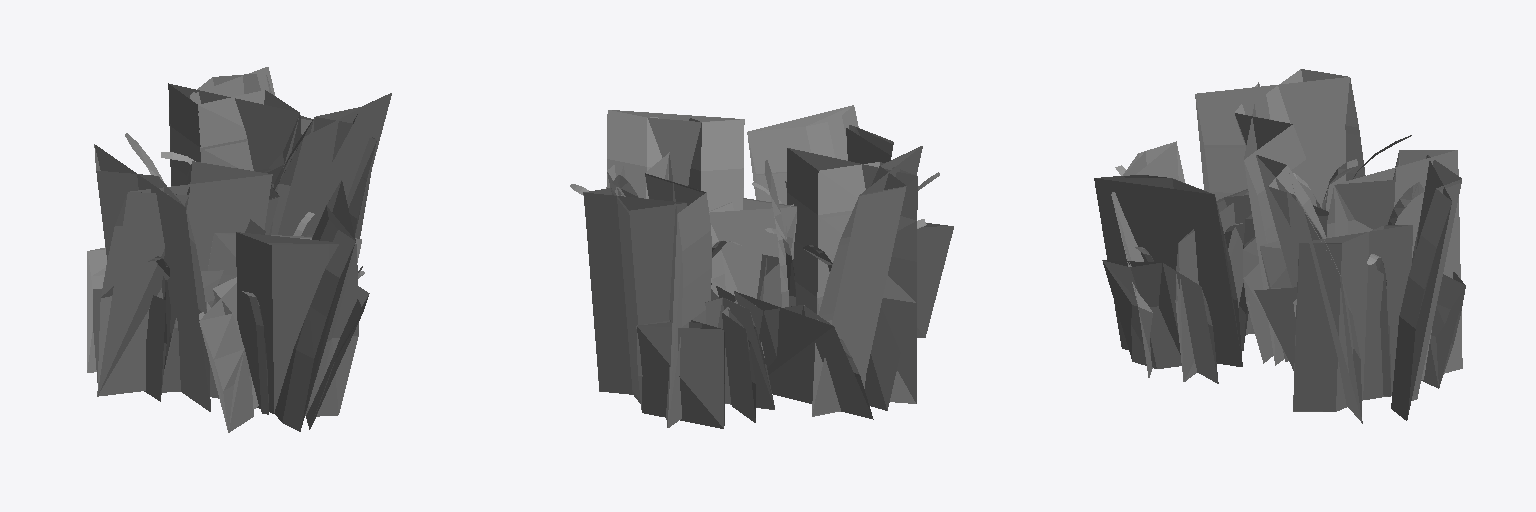
The model's file is Swamp_Grass_Tall_B.obj.
3 renders of one model, left to right at view 1: azimuth 30°, elevation 25°; view 2: azimuth 150°, elevation 25°; view 3: azimuth 270°, elevation 25°, orthographic.
Parts seen in each view (by area): view 1: Swamp_Grass_Tall_B_LOD3, Swamp_Grass_Tall_B_LOD2, Swamp_Grass_Tall_B_LOD0, Swamp_Grass_Tall_B_LOD1; view 2: Swamp_Grass_Tall_B_LOD2, Swamp_Grass_Tall_B_LOD0, Swamp_Grass_Tall_B_LOD3, Swamp_Grass_Tall_B_LOD1; view 3: Swamp_Grass_Tall_B_LOD3, Swamp_Grass_Tall_B_LOD2, Swamp_Grass_Tall_B_LOD0, Swamp_Grass_Tall_B_LOD1.
Boxes of the visible parts, x1,y1,x2,y2 form: Swamp_Grass_Tall_B_LOD3: [95, 67, 391, 411]; Swamp_Grass_Tall_B_LOD2: [90, 95, 385, 429]; Swamp_Grass_Tall_B_LOD0: [87, 67, 376, 432]; Swamp_Grass_Tall_B_LOD1: [87, 74, 376, 432]; Swamp_Grass_Tall_B_LOD2: [584, 118, 947, 428]; Swamp_Grass_Tall_B_LOD0: [570, 105, 939, 427]; Swamp_Grass_Tall_B_LOD3: [584, 105, 953, 427]; Swamp_Grass_Tall_B_LOD1: [578, 106, 938, 422]; Swamp_Grass_Tall_B_LOD3: [1094, 77, 1462, 422]; Swamp_Grass_Tall_B_LOD2: [1097, 97, 1464, 414]; Swamp_Grass_Tall_B_LOD0: [1101, 69, 1465, 423]; Swamp_Grass_Tall_B_LOD1: [1102, 69, 1465, 419].
Size of the model in its own units: 226 by 171 by 237.